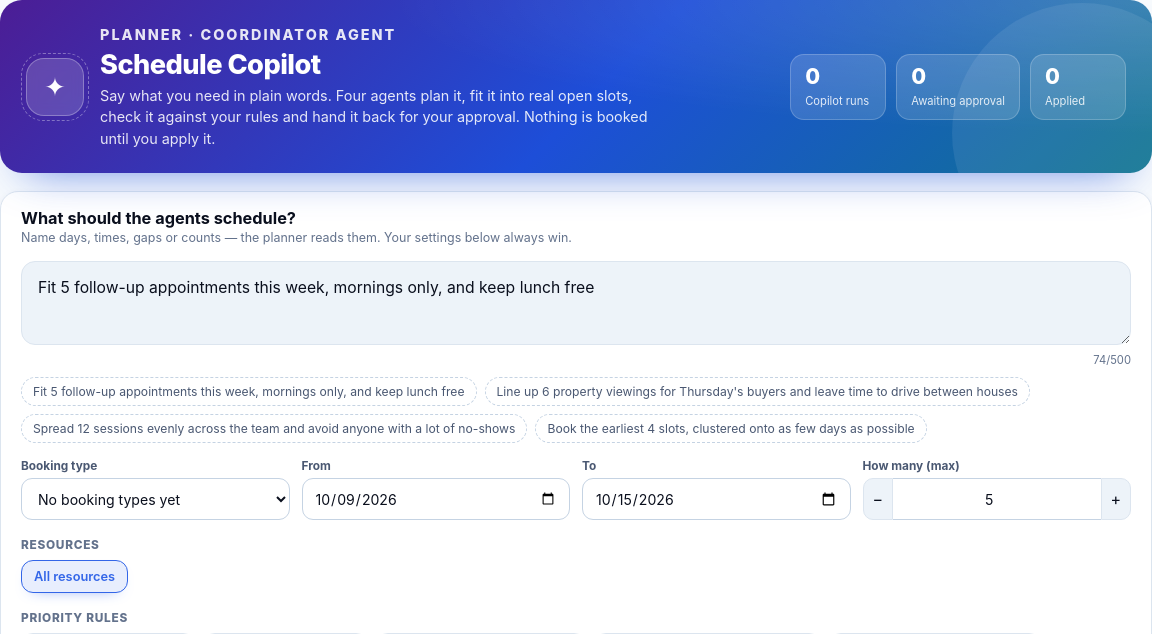
ScheduleCopilotPage › will not run with an objective too short to plan from
The width and height of the screenshot is (1152, 634).
Replace the text in the text box named "Scheduling objective" with "hi" at (576, 303), box [21,261,1131,345]
(page scrolled)
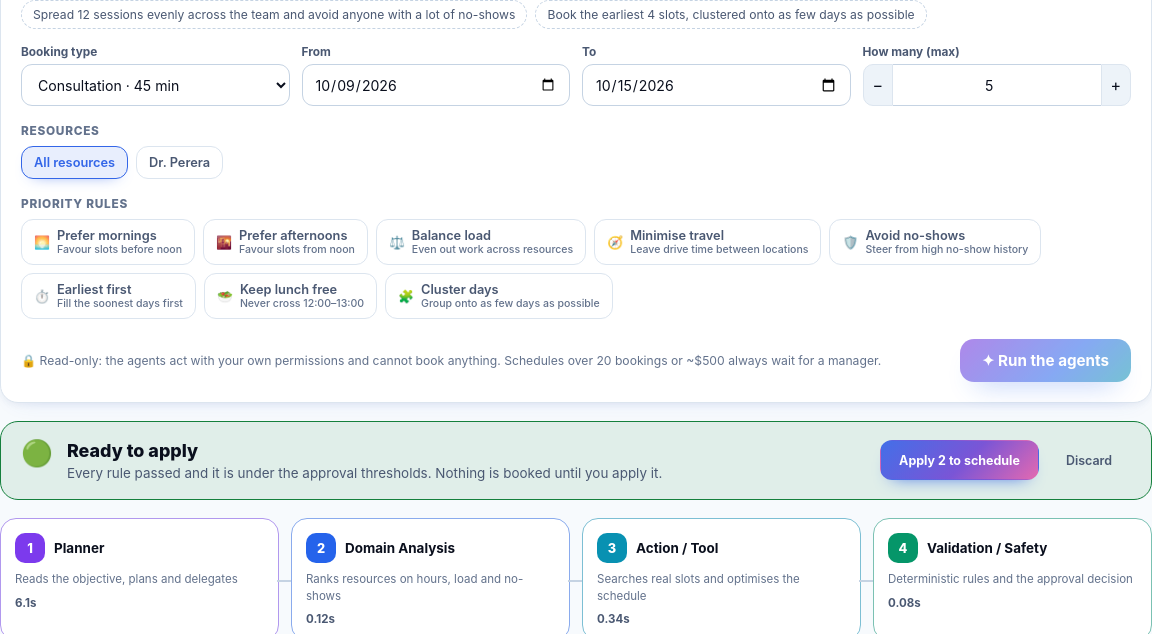
Result: the button "✦ Run the agents" is disabled at [960,339,1131,382]
